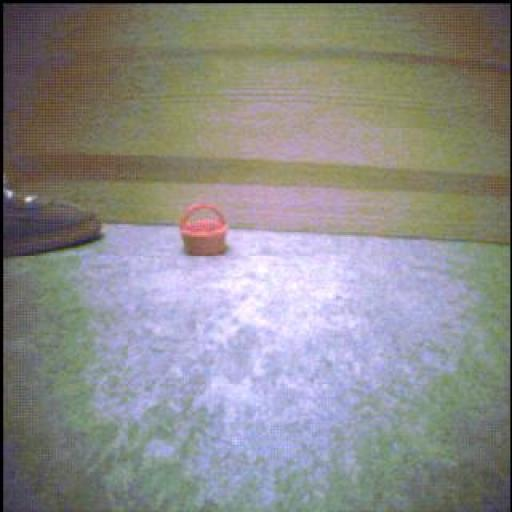Bucket: (179, 201, 232, 257)
